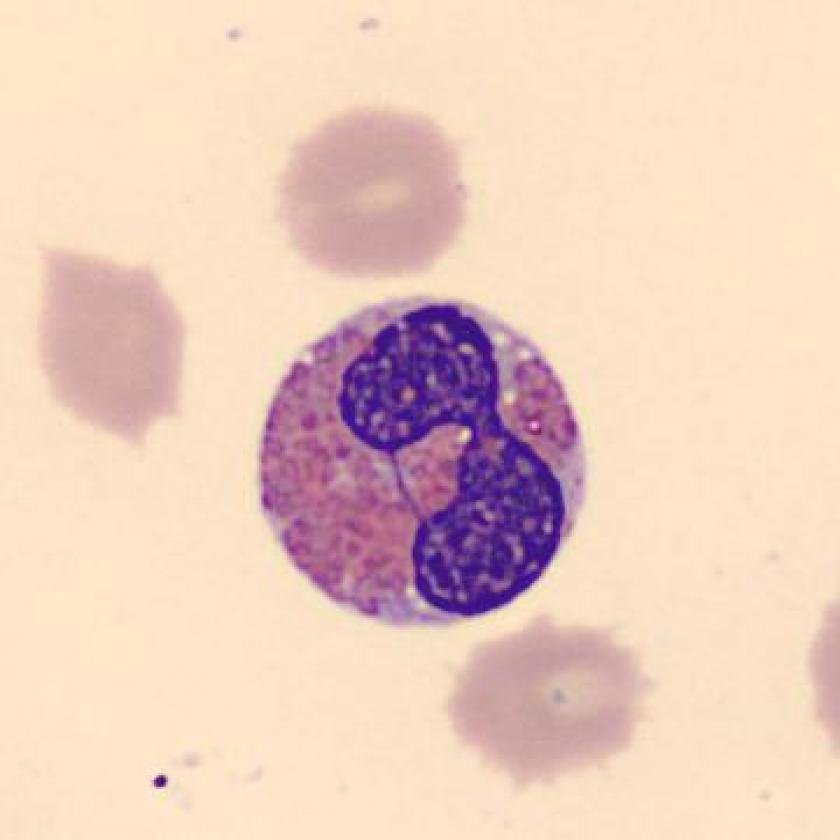eosinophil: (232, 288, 603, 649)
